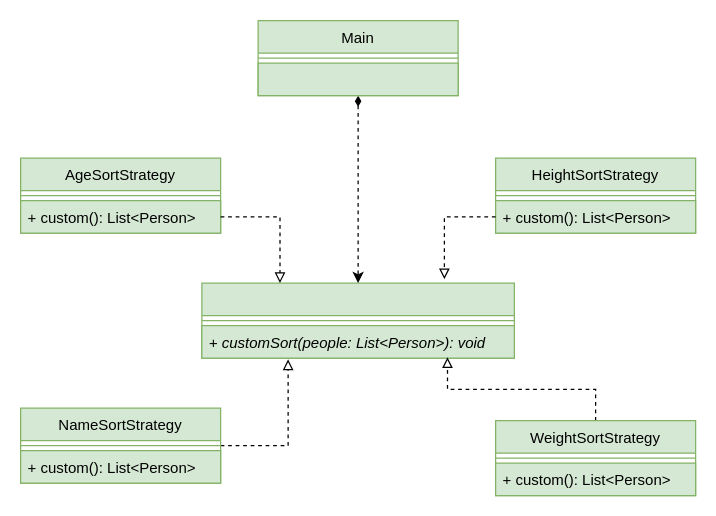
Image size: 716x516. Some labels were removed from this diagram. The box of each missing label's shape, as (x1, y1, x2, y2) in pixels:
+ main(args: String[]): void: (257, 62, 458, 96)
SortStrategy: (201, 282, 514, 358)
